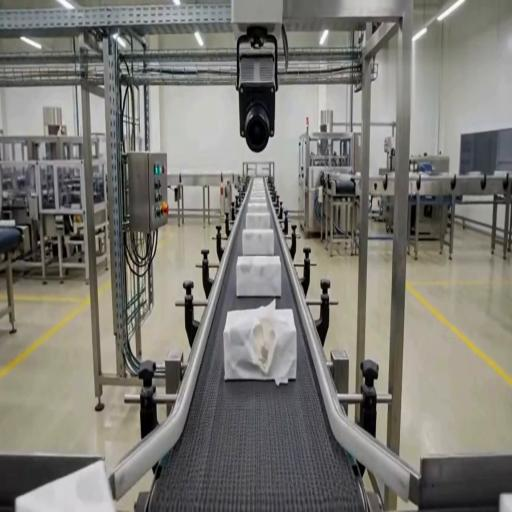defective: (224, 301, 297, 382), (14, 460, 116, 510)
good: (235, 254, 282, 298), (242, 229, 276, 257), (245, 210, 271, 229), (246, 202, 270, 215)
